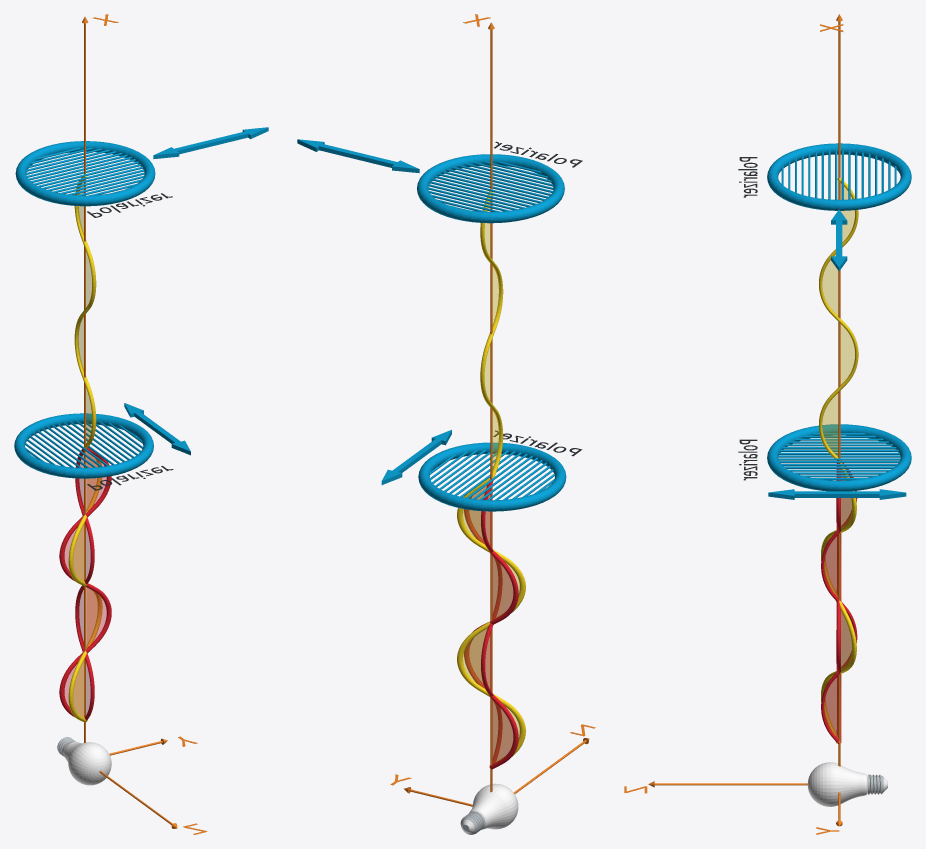
File: split_angle.obj
3 renders of one model, left to right at view 1: azimuth 30°, elevation 25°; view 2: azimuth 150°, elevation 25°; view 3: azimuth 270°, elevation 25°, orthographic. The views are drawn at different scales.
Visible parts, largest first — view 1: group_0_40919, group_0_-1024910035, group_0_-1023419110, group_0_15277357, group_0_16768282, group_0_16089887, group_0_16448250, group_0_2829873; view 2: group_0_40919, group_0_-1023419110, group_0_-1024910035, group_0_16768282, group_0_16089887, group_0_15277357, group_0_16448250, group_0_2829873; view 3: group_0_40919, group_0_-1023419110, group_0_16089887, group_0_16768282, group_0_16448250, group_0_15277357, group_0_-1024910035, group_0_2829873.
Boxes of the visible parts, x1=… form: group_0_40919: x1=14, y1=127, x2=268, y2=478; group_0_-1024910035: x1=65, y1=452, x2=106, y2=716; group_0_-1023419110: x1=73, y1=180, x2=98, y2=717; group_0_15277357: x1=59, y1=447, x2=111, y2=720; group_0_16768282: x1=68, y1=176, x2=102, y2=722; group_0_16089887: x1=82, y1=14, x2=207, y2=834; group_0_16448250: x1=64, y1=741, x2=111, y2=785; group_0_2829873: x1=87, y1=193, x2=173, y2=490; group_0_40919: x1=297, y1=139, x2=566, y2=511; group_0_-1023419110: x1=463, y1=201, x2=519, y2=762; group_0_-1024910035: x1=469, y1=486, x2=512, y2=763; group_0_16768282: x1=457, y1=191, x2=525, y2=766; group_0_16089887: x1=390, y1=14, x2=595, y2=806; group_0_15277357: x1=464, y1=478, x2=518, y2=769; group_0_16448250: x1=461, y1=783, x2=518, y2=833; group_0_2829873: x1=493, y1=141, x2=582, y2=456; group_0_40919: x1=767, y1=143, x2=911, y2=499; group_0_-1023419110: x1=822, y1=184, x2=854, y2=737; group_0_16089887: x1=624, y1=14, x2=843, y2=834; group_0_16768282: x1=819, y1=178, x2=858, y2=743; group_0_16448250: x1=807, y1=762, x2=887, y2=806; group_0_15277357: x1=821, y1=460, x2=857, y2=743; group_0_-1024910035: x1=824, y1=477, x2=851, y2=737; group_0_2829873: x1=738, y1=157, x2=757, y2=480.
Size of the model in its own units: 132 by 392 by 129.
